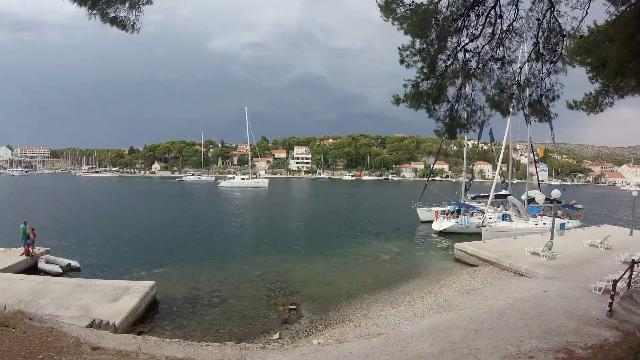Sailboat: (212, 171, 270, 191), (172, 166, 218, 184)
